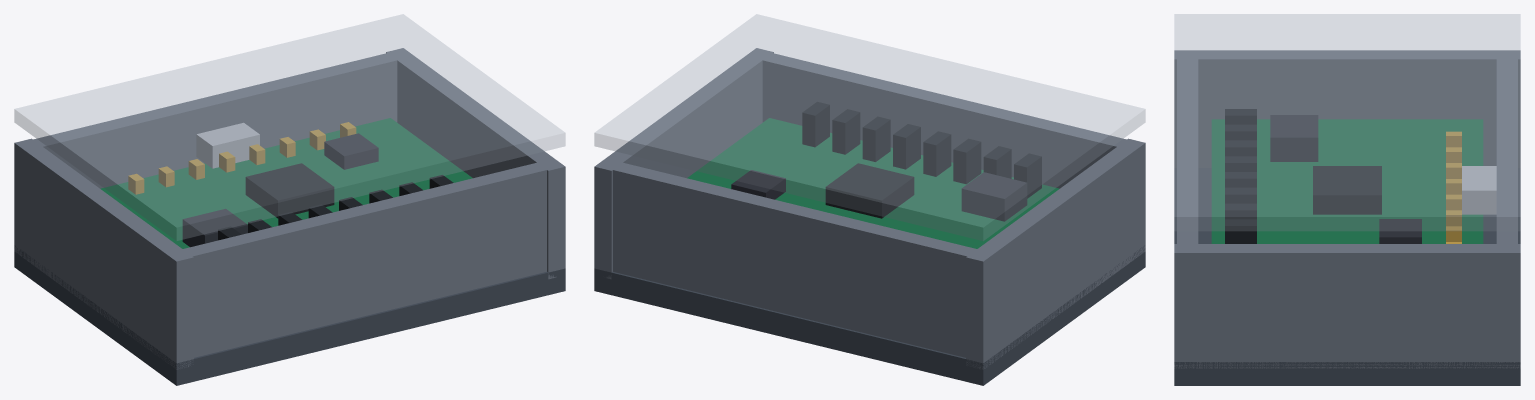
The model's file is flight-controller.glb.
The picture shows the model from 3 angles, left to right: view 1: azimuth 30°, elevation 25°; view 2: azimuth 150°, elevation 25°; view 3: azimuth 270°, elevation 25°; orthographic projection. The views are drawn at different scales.
Parts seen in each view (by area): view 1: Transparent cover, End wall 30, Enclosure wall -43, End wall -30, Flight controller PCB, Enclosure base, Enclosure wall 43, STM32 processor, USB connector, 5V regulator, IMU module; view 2: Transparent cover, End wall -30, Enclosure wall -43, End wall 30, Flight controller PCB, Enclosure base, Enclosure wall 43, STM32 processor, 5V regulator, Signal connector 3, Signal connector 5, Signal connector 6 (+6 smaller); view 3: Transparent cover, Enclosure wall 43, Enclosure wall -43, Flight controller PCB, Enclosure base, End wall -30, End wall 30, STM32 processor, 5V regulator, USB connector, IMU module, Signal connector 7 (+7 smaller).
Boxes of the visible parts, bbox=[...] form: Transparent cover: bbox=[14, 14, 565, 240]; End wall 30: bbox=[183, 162, 546, 357]; Enclosure wall -43: bbox=[14, 138, 193, 369]; End wall -30: bbox=[33, 53, 397, 188]; Flight controller PCB: bbox=[100, 118, 472, 248]; Enclosure base: bbox=[14, 245, 565, 385]; Enclosure wall 43: bbox=[386, 48, 565, 279]; STM32 processor: bbox=[245, 163, 334, 218]; USB connector: bbox=[196, 123, 259, 168]; 5V regulator: bbox=[182, 209, 247, 247]; IMU module: bbox=[324, 133, 378, 169]; Transparent cover: bbox=[594, 14, 1145, 240]; End wall -30: bbox=[613, 162, 976, 357]; Enclosure wall -43: bbox=[966, 138, 1145, 369]; End wall 30: bbox=[762, 53, 1126, 188]; Flight controller PCB: bbox=[687, 118, 1059, 248]; Enclosure base: bbox=[594, 245, 1145, 385]; Enclosure wall 43: bbox=[594, 48, 773, 279]; STM32 processor: bbox=[825, 163, 914, 218]; 5V regulator: bbox=[961, 172, 1027, 221]; Signal connector 3: bbox=[923, 131, 951, 176]; Signal connector 5: bbox=[862, 116, 890, 161]; Signal connector 6: bbox=[832, 109, 860, 154]; Transparent cover: bbox=[1174, 14, 1520, 230]; Enclosure wall 43: bbox=[1174, 244, 1520, 368]; Enclosure wall -43: bbox=[1174, 50, 1520, 167]; Flight controller PCB: bbox=[1211, 119, 1483, 243]; Enclosure base: bbox=[1174, 168, 1520, 385]; End wall -30: bbox=[1496, 59, 1517, 243]; End wall 30: bbox=[1177, 59, 1198, 243]; STM32 processor: bbox=[1313, 166, 1381, 214]; 5V regulator: bbox=[1270, 115, 1318, 161]; USB connector: bbox=[1462, 166, 1496, 214]; IMU module: bbox=[1379, 219, 1421, 243]; Signal connector 7: bbox=[1225, 219, 1256, 243].
Size of the model in its own units: 90 by 35 by 65.
